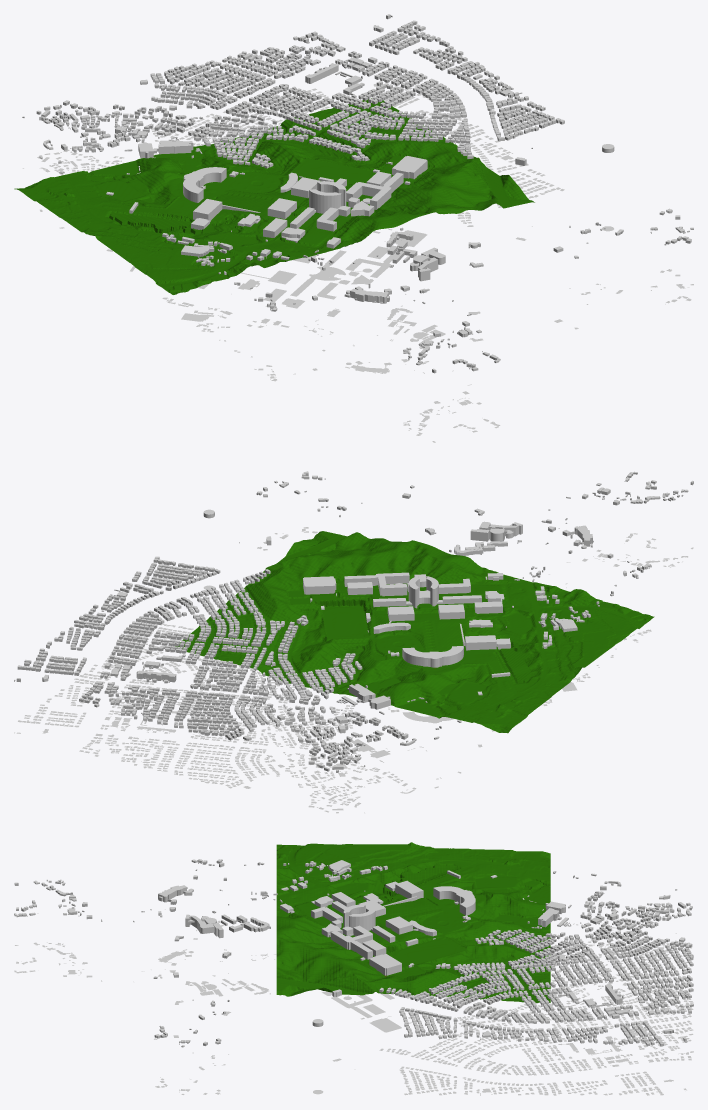
The model's file is gakkou_zahyou02.glb.
The picture shows the model from 3 angles, top to bottom: view 1: azimuth 30°, elevation 25°; view 2: azimuth 150°, elevation 25°; view 3: azimuth 270°, elevation 25°; orthographic projection. The views are drawn at different scales.
Parts seen in each view (by area): view 1: CityGML.001, dem, CityGML; view 2: dem, CityGML.001, CityGML; view 3: CityGML.001, dem, CityGML.
Part boxes in pixels (x1=…): CityGML.001: x1=22, y1=14, x2=564, y2=306; dem: x1=14, y1=98, x2=534, y2=294; CityGML: x1=181, y1=144, x2=693, y2=442; dem: x1=175, y1=531, x2=654, y2=733; CityGML.001: x1=14, y1=542, x2=552, y2=813; CityGML: x1=203, y1=471, x2=693, y2=691; CityGML.001: x1=330, y1=865, x2=693, y2=1095; dem: x1=276, y1=842, x2=550, y2=1002; CityGML: x1=14, y1=859, x2=365, y2=1094.
Size of the model in its own units: 127 by 22.16 by 186.
